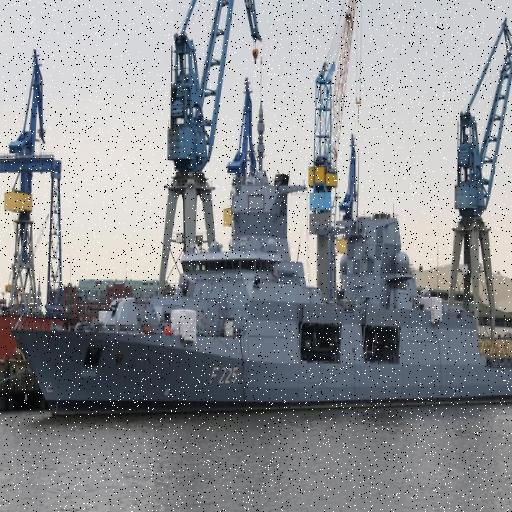Fragata: (11, 86, 512, 424)
